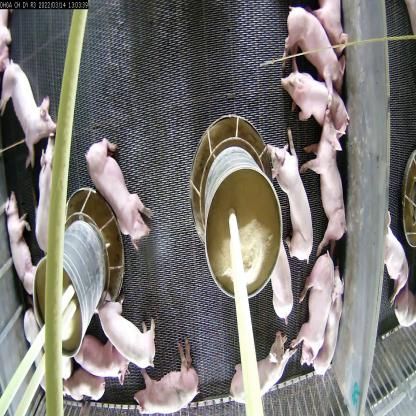Pig: (256, 127, 320, 270), (82, 134, 150, 251), (307, 115, 353, 251), (0, 55, 58, 161), (95, 293, 165, 373), (286, 4, 344, 96), (4, 188, 41, 310), (298, 246, 336, 361), (231, 328, 289, 402), (133, 352, 198, 415), (34, 132, 64, 260), (275, 67, 334, 124), (316, 278, 343, 376), (381, 218, 408, 295), (266, 244, 292, 318), (68, 330, 102, 358)
